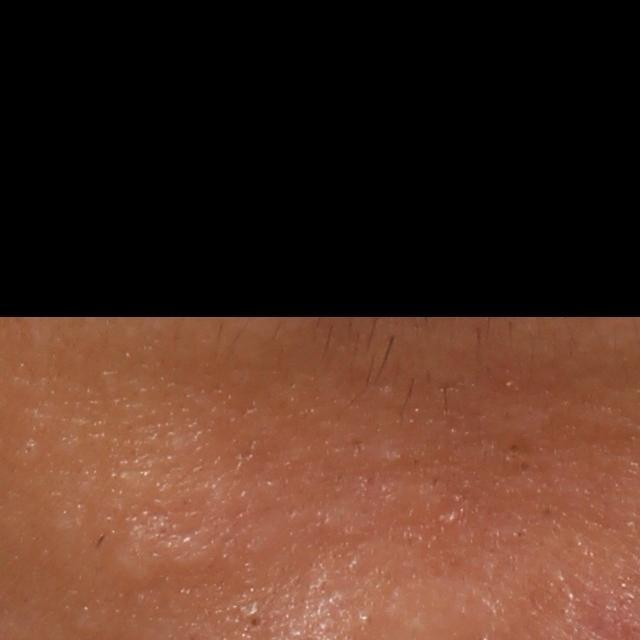comedo: (240, 606, 268, 635), (381, 445, 403, 466)
hypertrophic_scar: (113, 514, 221, 587)
